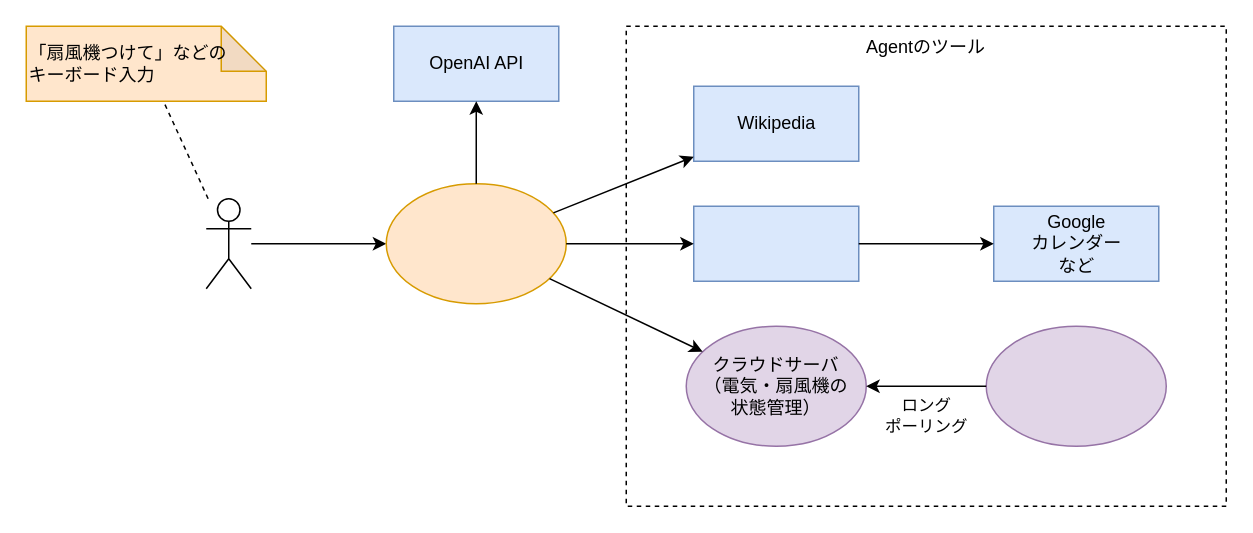
This 1253x533 diagram has some shape labels left out. Each missing label, with the centre of its shape:
"AIアシスタント Webアプリ (LangChain)" goes at point 475,243.
"Raspberry Pi Pico W" goes at point 1075,385.
"Zapier NLA" goes at point 775,243.
